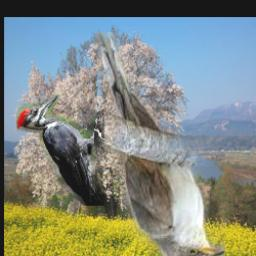Cuckoo: (96, 32, 226, 256)
Woodpecker: (16, 95, 104, 207)
